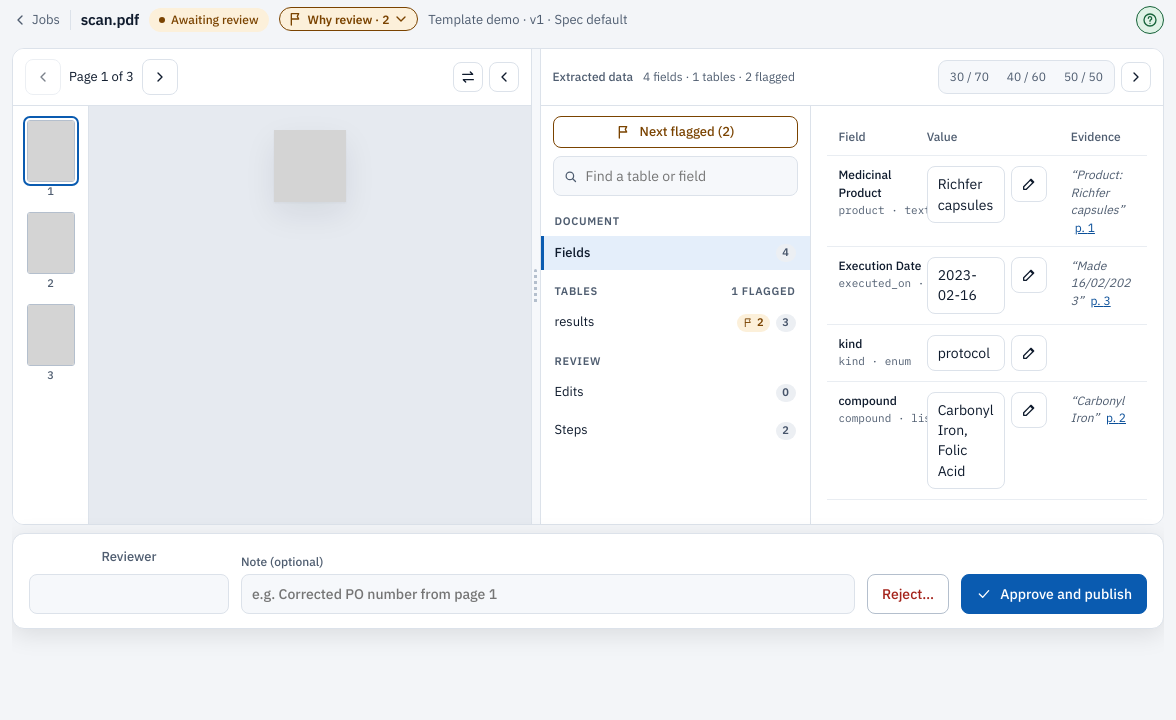
Test: operators › review a job but cannot re-run a step
Click the tab "Steps 2". click: (571, 430)
box: [540,414,810,448]
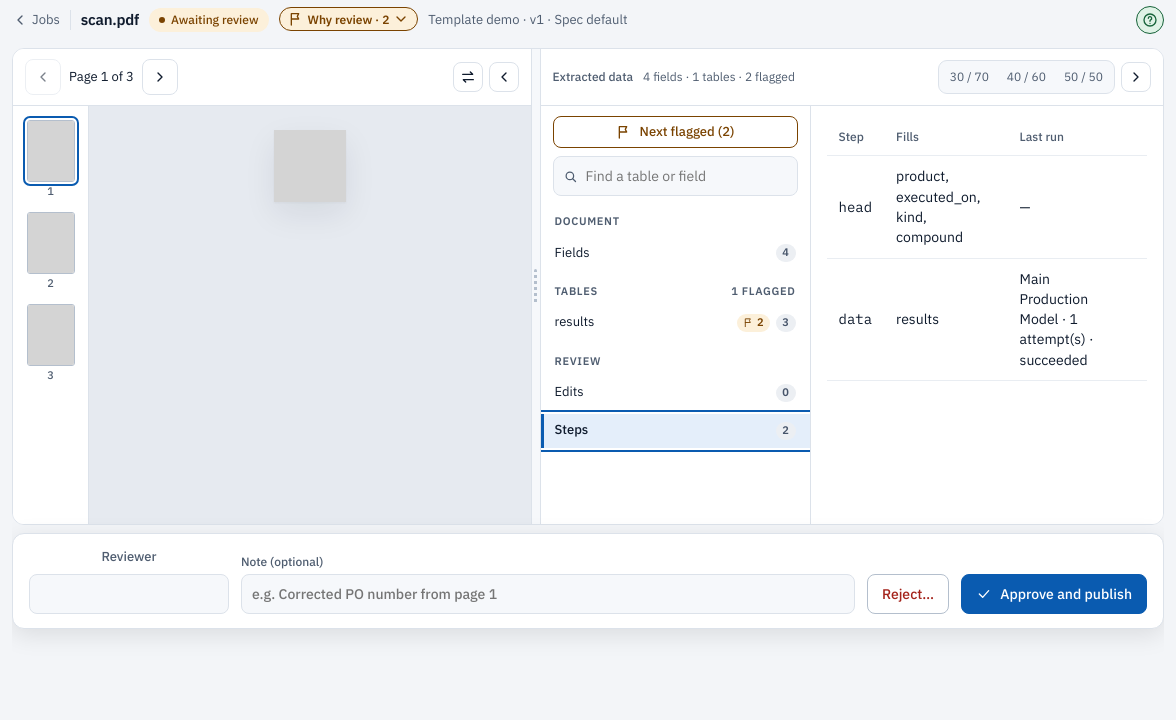
Expected: the button "Approve and publish" is shown, [961,574,1147,614]
Expected: the row "data" is shown, [826,258,1147,381]
